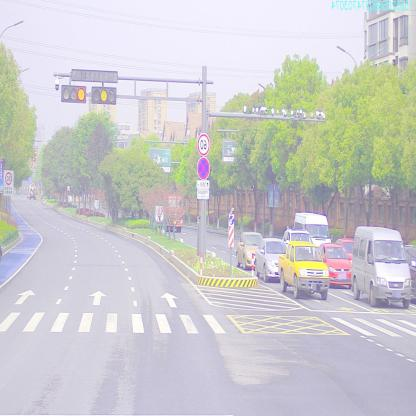traffic-light: (63, 84, 86, 104), (92, 89, 115, 103)
